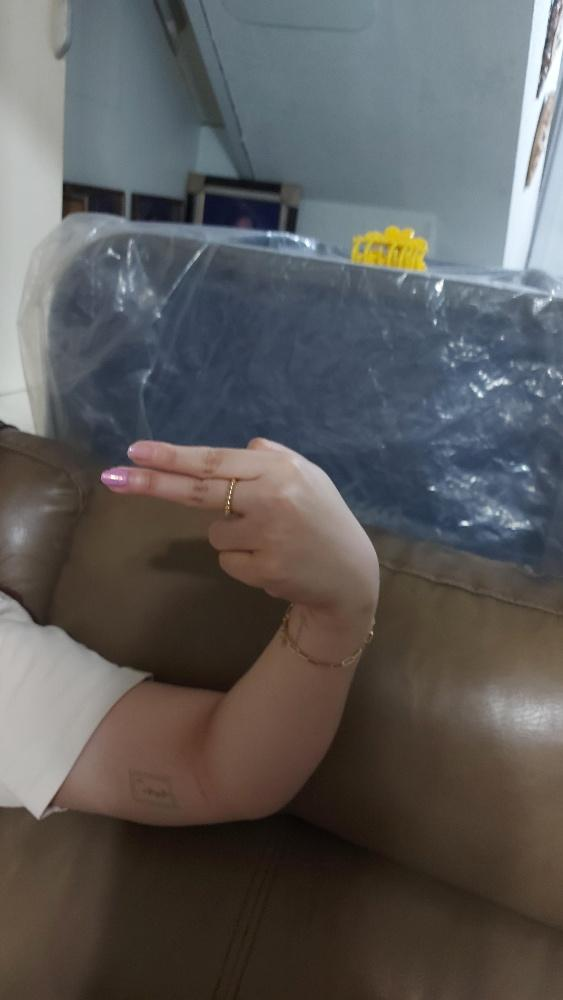h: (99, 434, 377, 604)
